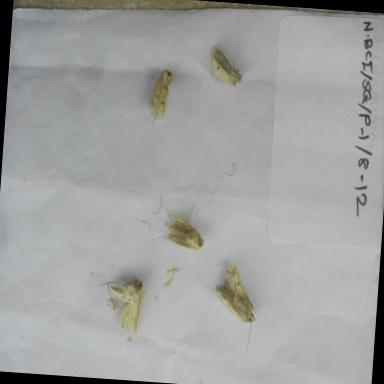abw: (206, 257, 262, 358), (92, 270, 148, 343), (157, 204, 211, 260), (137, 62, 181, 130), (202, 40, 248, 96)
